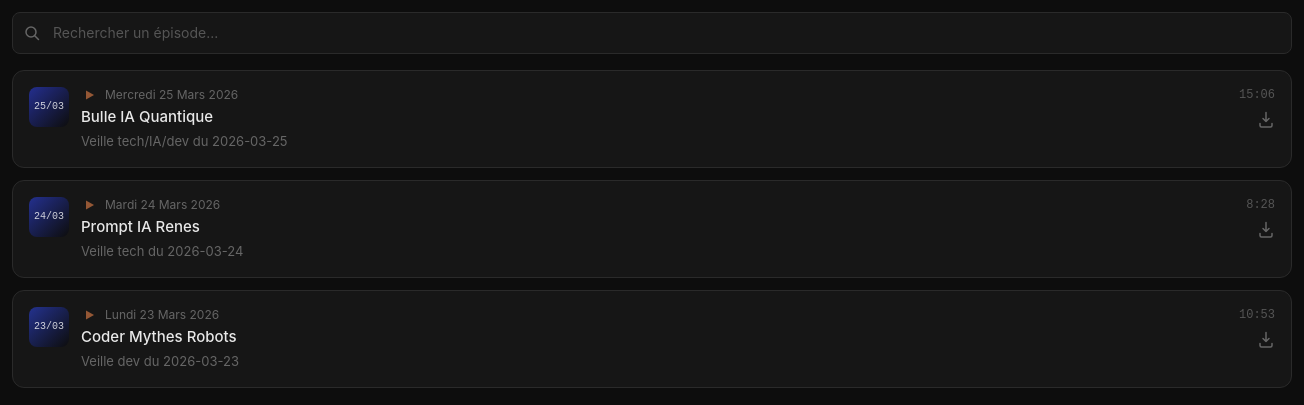
it: EpisodeList › filters episodes by search
This screenshot has width=1304, height=405.
Type "Quantique" into the field with placeholder "Rechercher un épisode..." at coordinates (652, 33), box [12,12,1292,54]
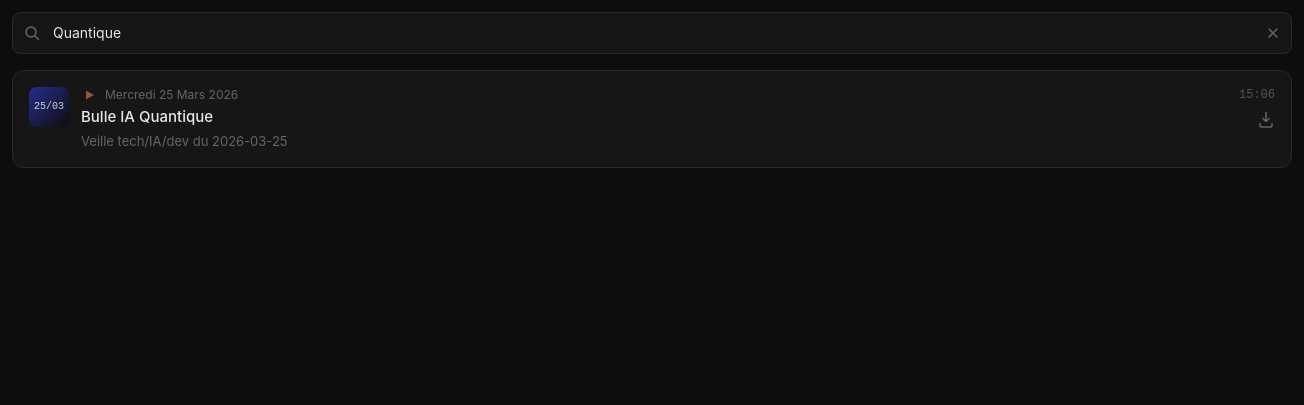
Expected: the text "Bulle IA Quantique" is shown, [81,107,213,126]
Result: the button "Prompt IA Renes" is gone
